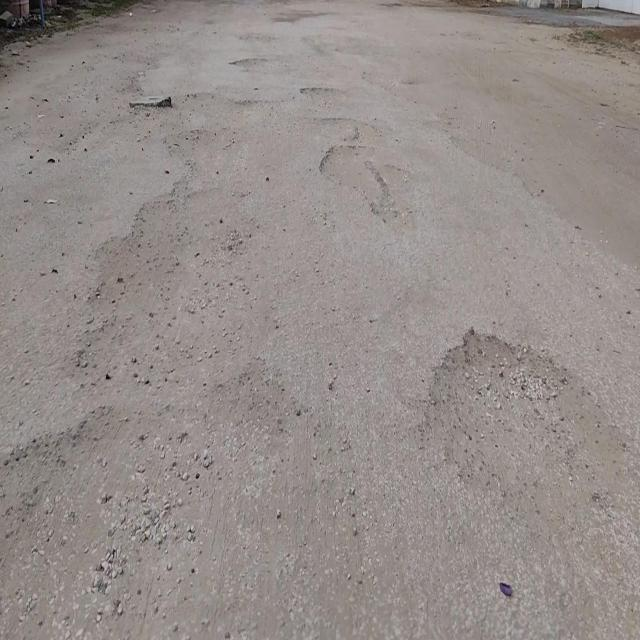Potholes: (417, 323, 627, 540), (319, 142, 393, 219)
